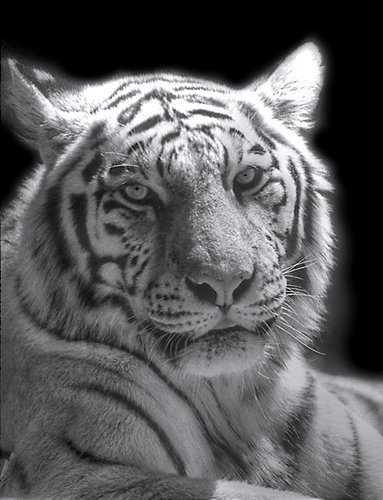Tigre: (24, 68, 348, 483)
